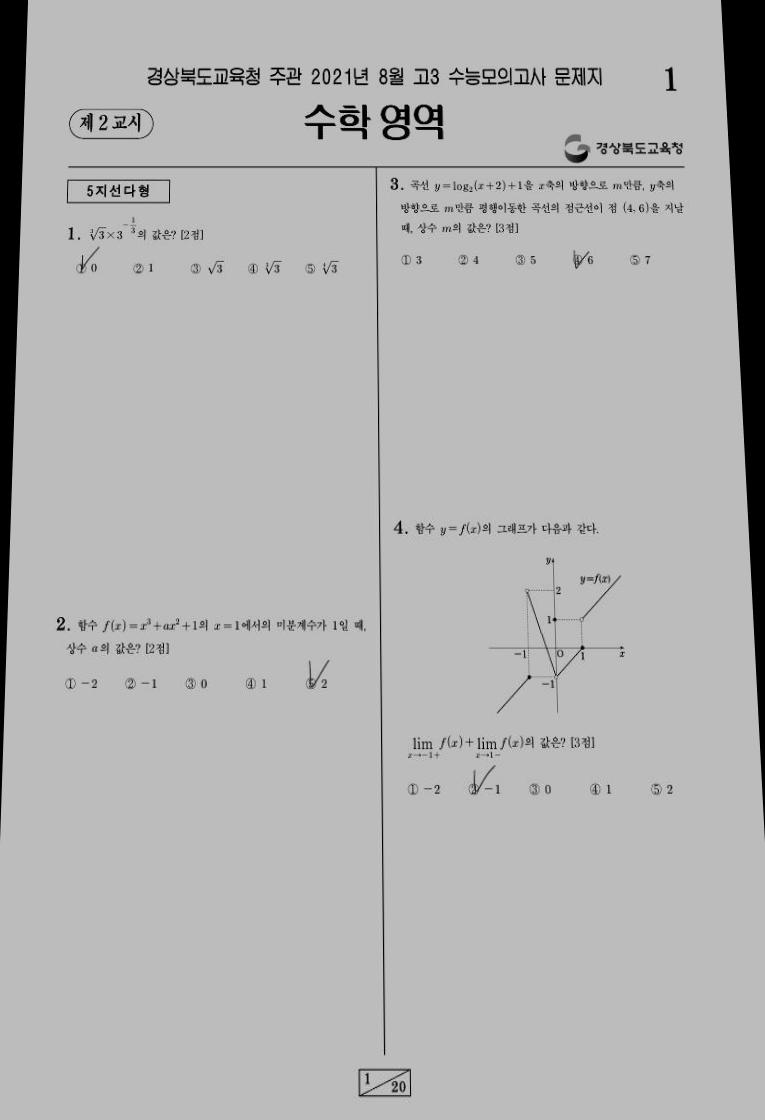question: (384, 510, 691, 819), (40, 597, 377, 710), (380, 170, 696, 283), (54, 209, 351, 297)
